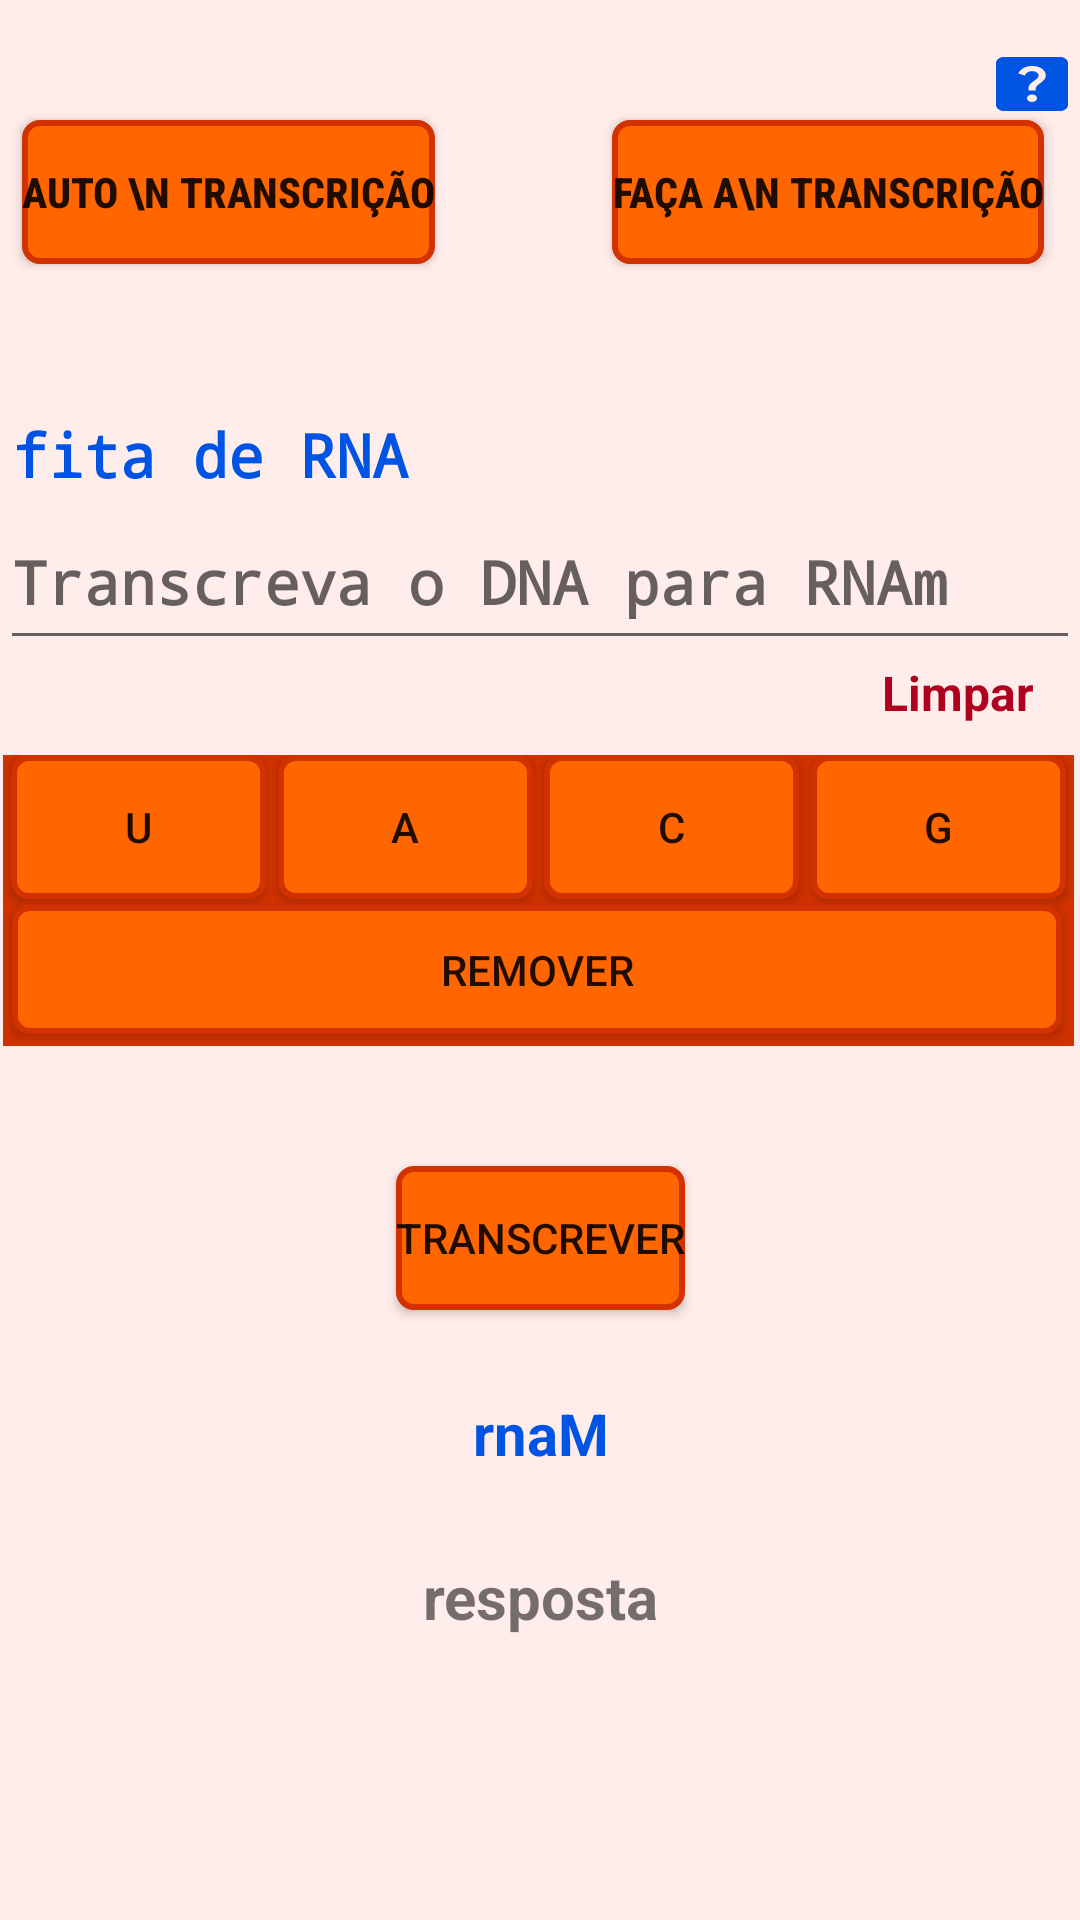

Where to tap for icons on this 1080 x 1920 app screen, as point (x, y):
help center: point (1032, 84)
